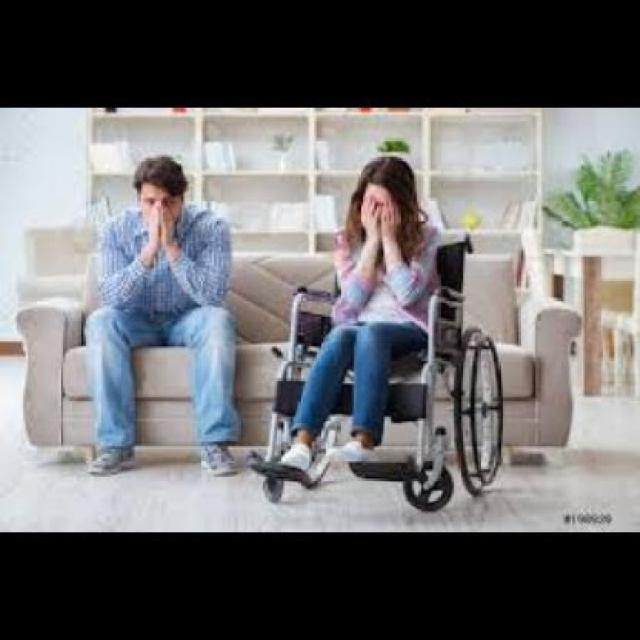wheelchairs: (256, 232, 505, 513)
